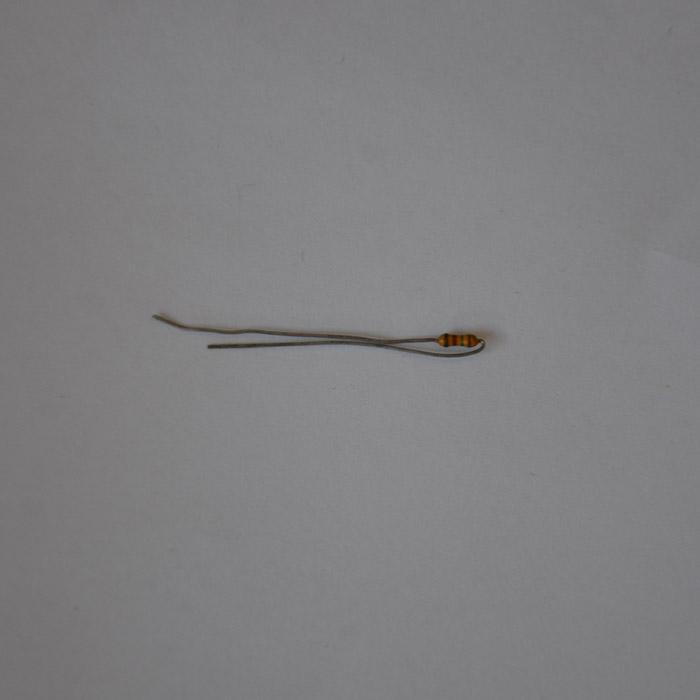resistor: (437, 332, 481, 348)
